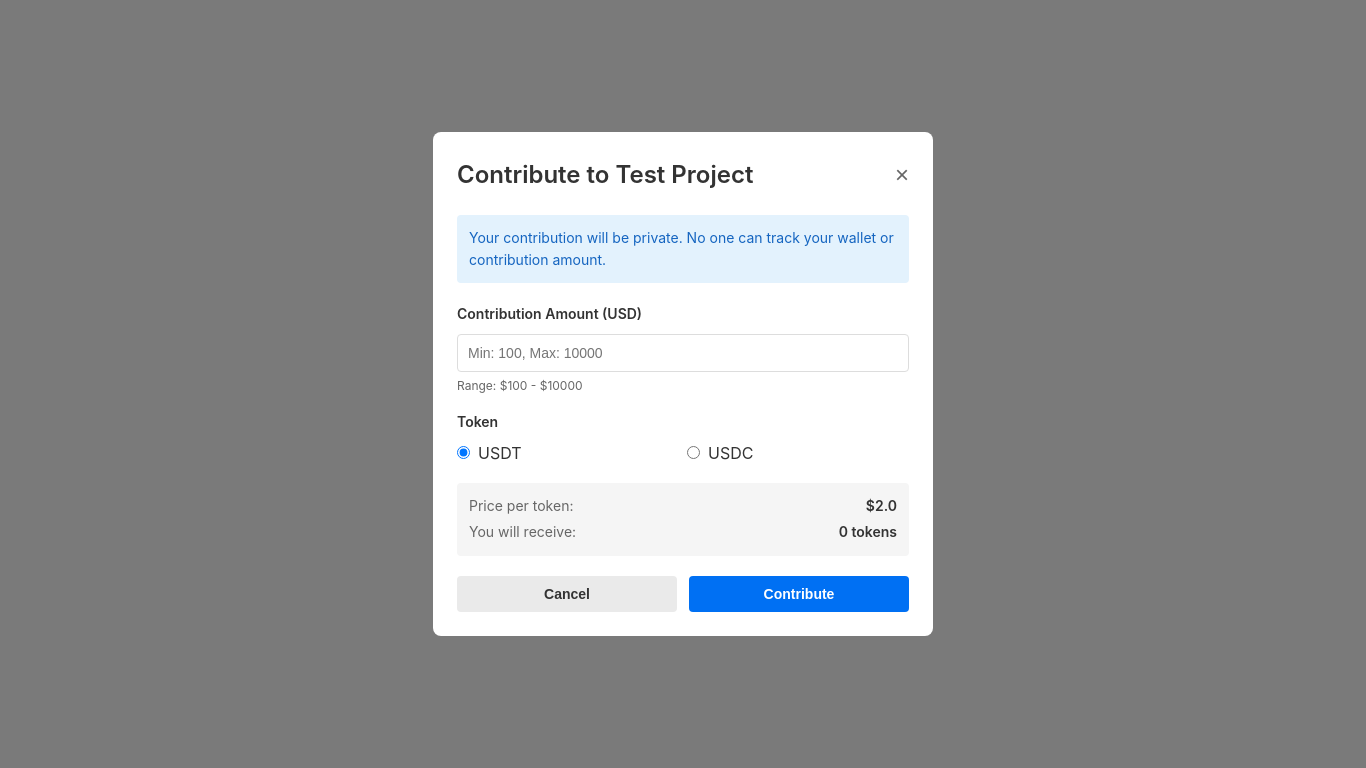
Test: LaunchpadContributeDialog › should allow selecting between USDT and USDC
The image size is (1366, 768).
Expected: the radio button labelled "USDT" is checked, [457,446,470,459]
Click the radio button labelled "USDC" at (694, 453), box [687,446,700,459]
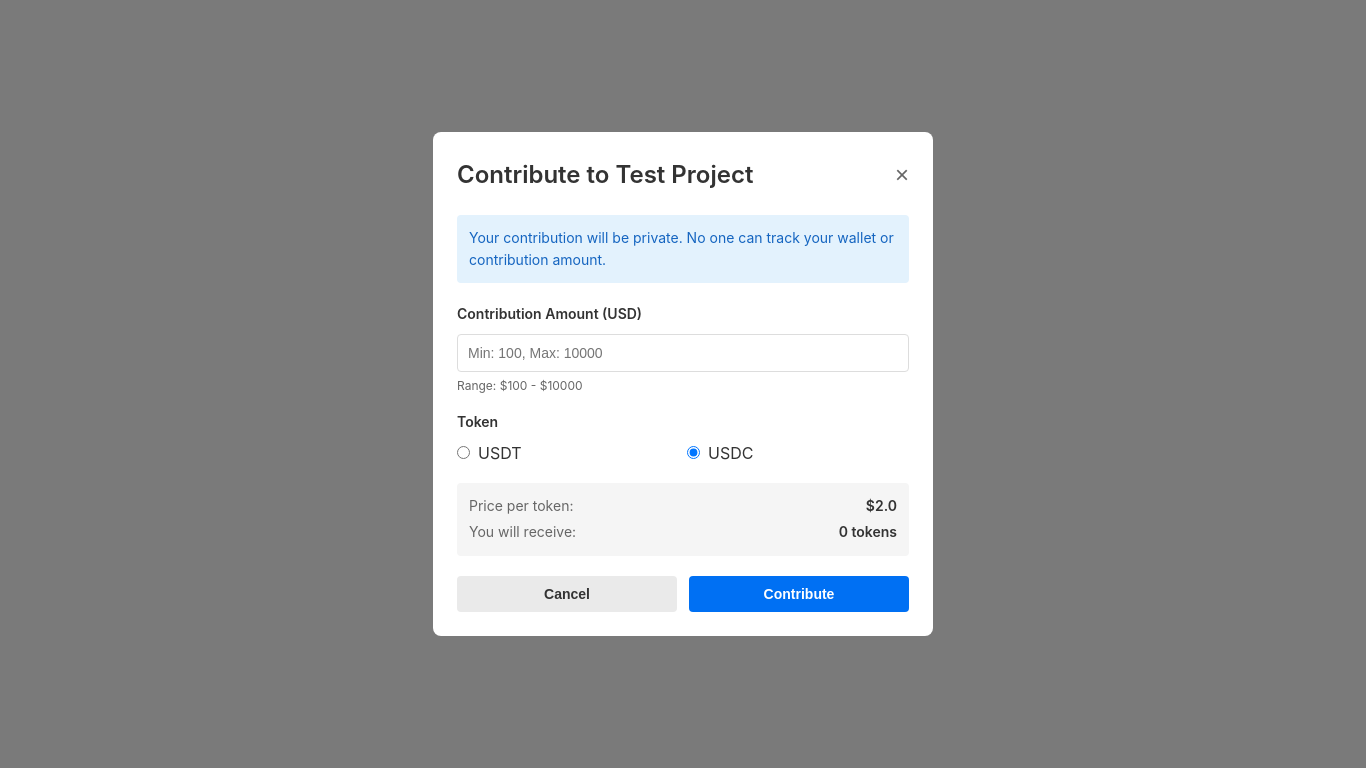
Result: the radio button labelled "USDC" is checked at [687,446,700,459]
Result: the radio button labelled "USDT" is not checked at [457,446,470,459]
